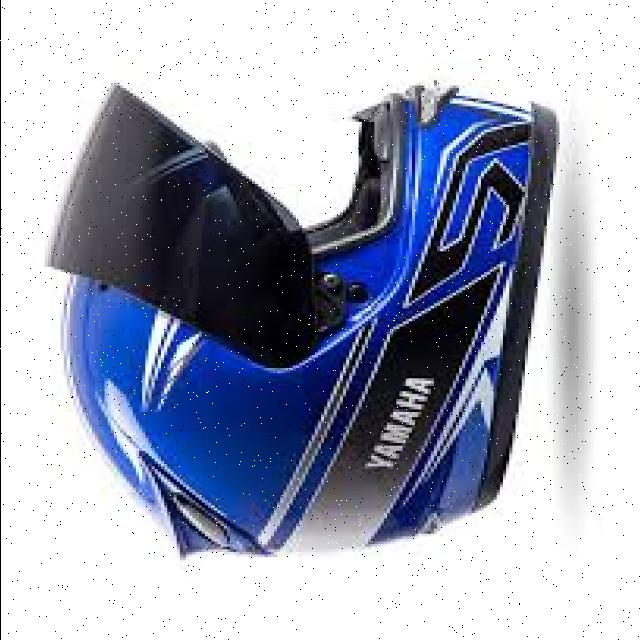Helmet: (47, 87, 553, 555)
